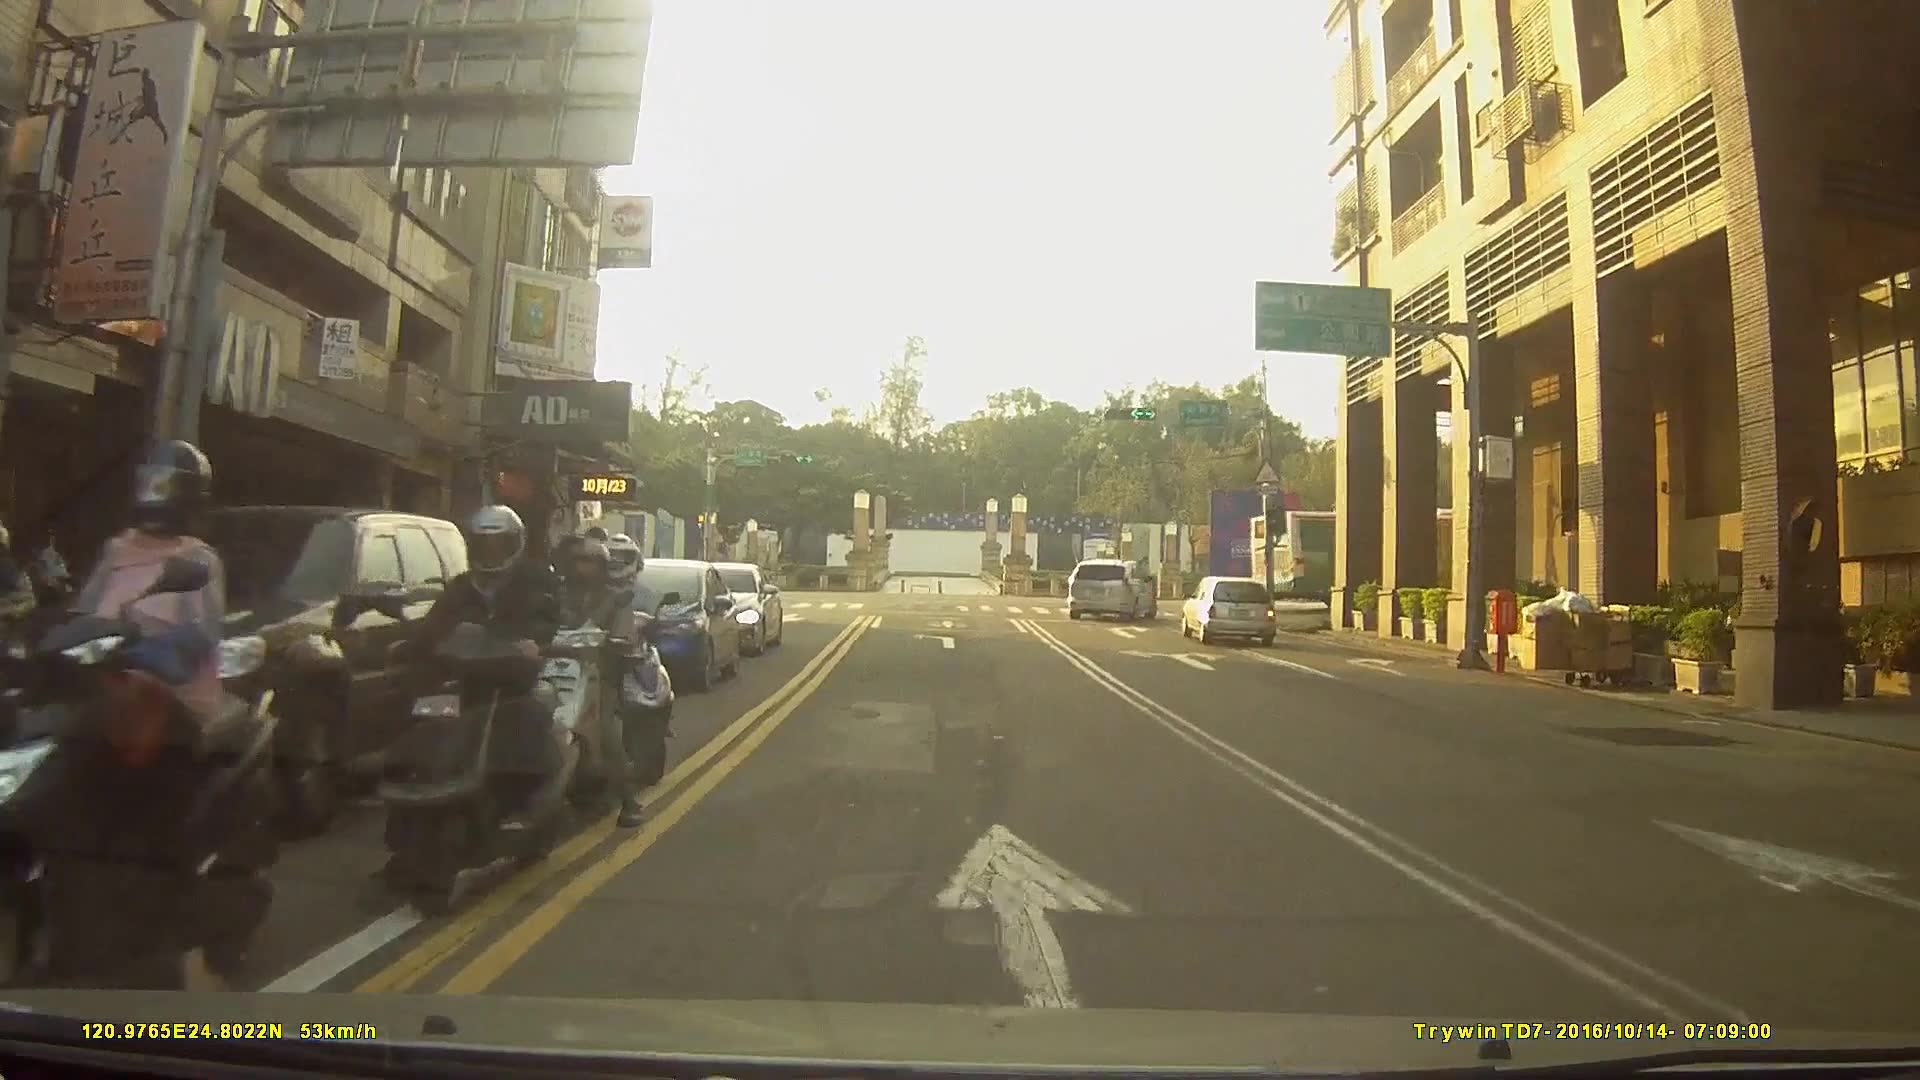rider: (1, 433, 297, 1049), (370, 506, 568, 923), (496, 538, 644, 836)
vehicle: (0, 504, 483, 838), (559, 554, 740, 696), (1250, 508, 1516, 604), (1178, 575, 1277, 648), (1067, 557, 1154, 621)
